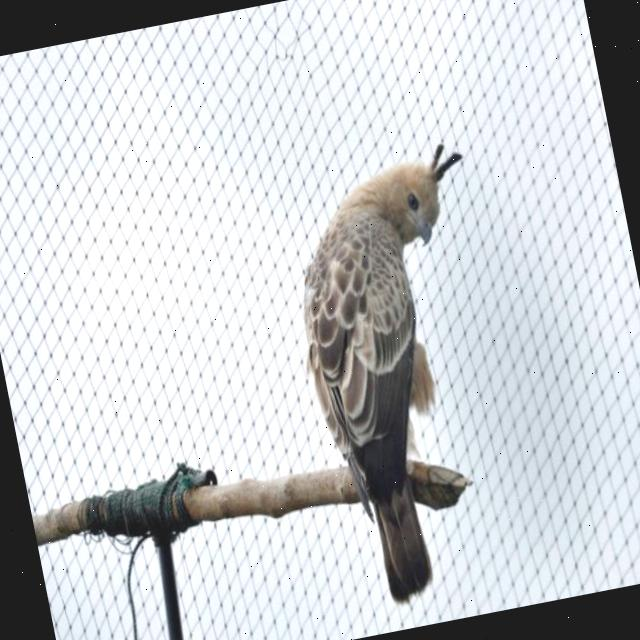Elang Jawa: (220, 90, 563, 632)
